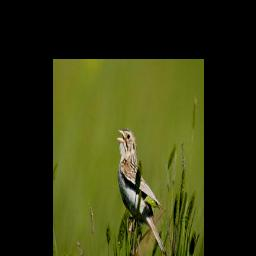Sparrow: (116, 127, 167, 256)
